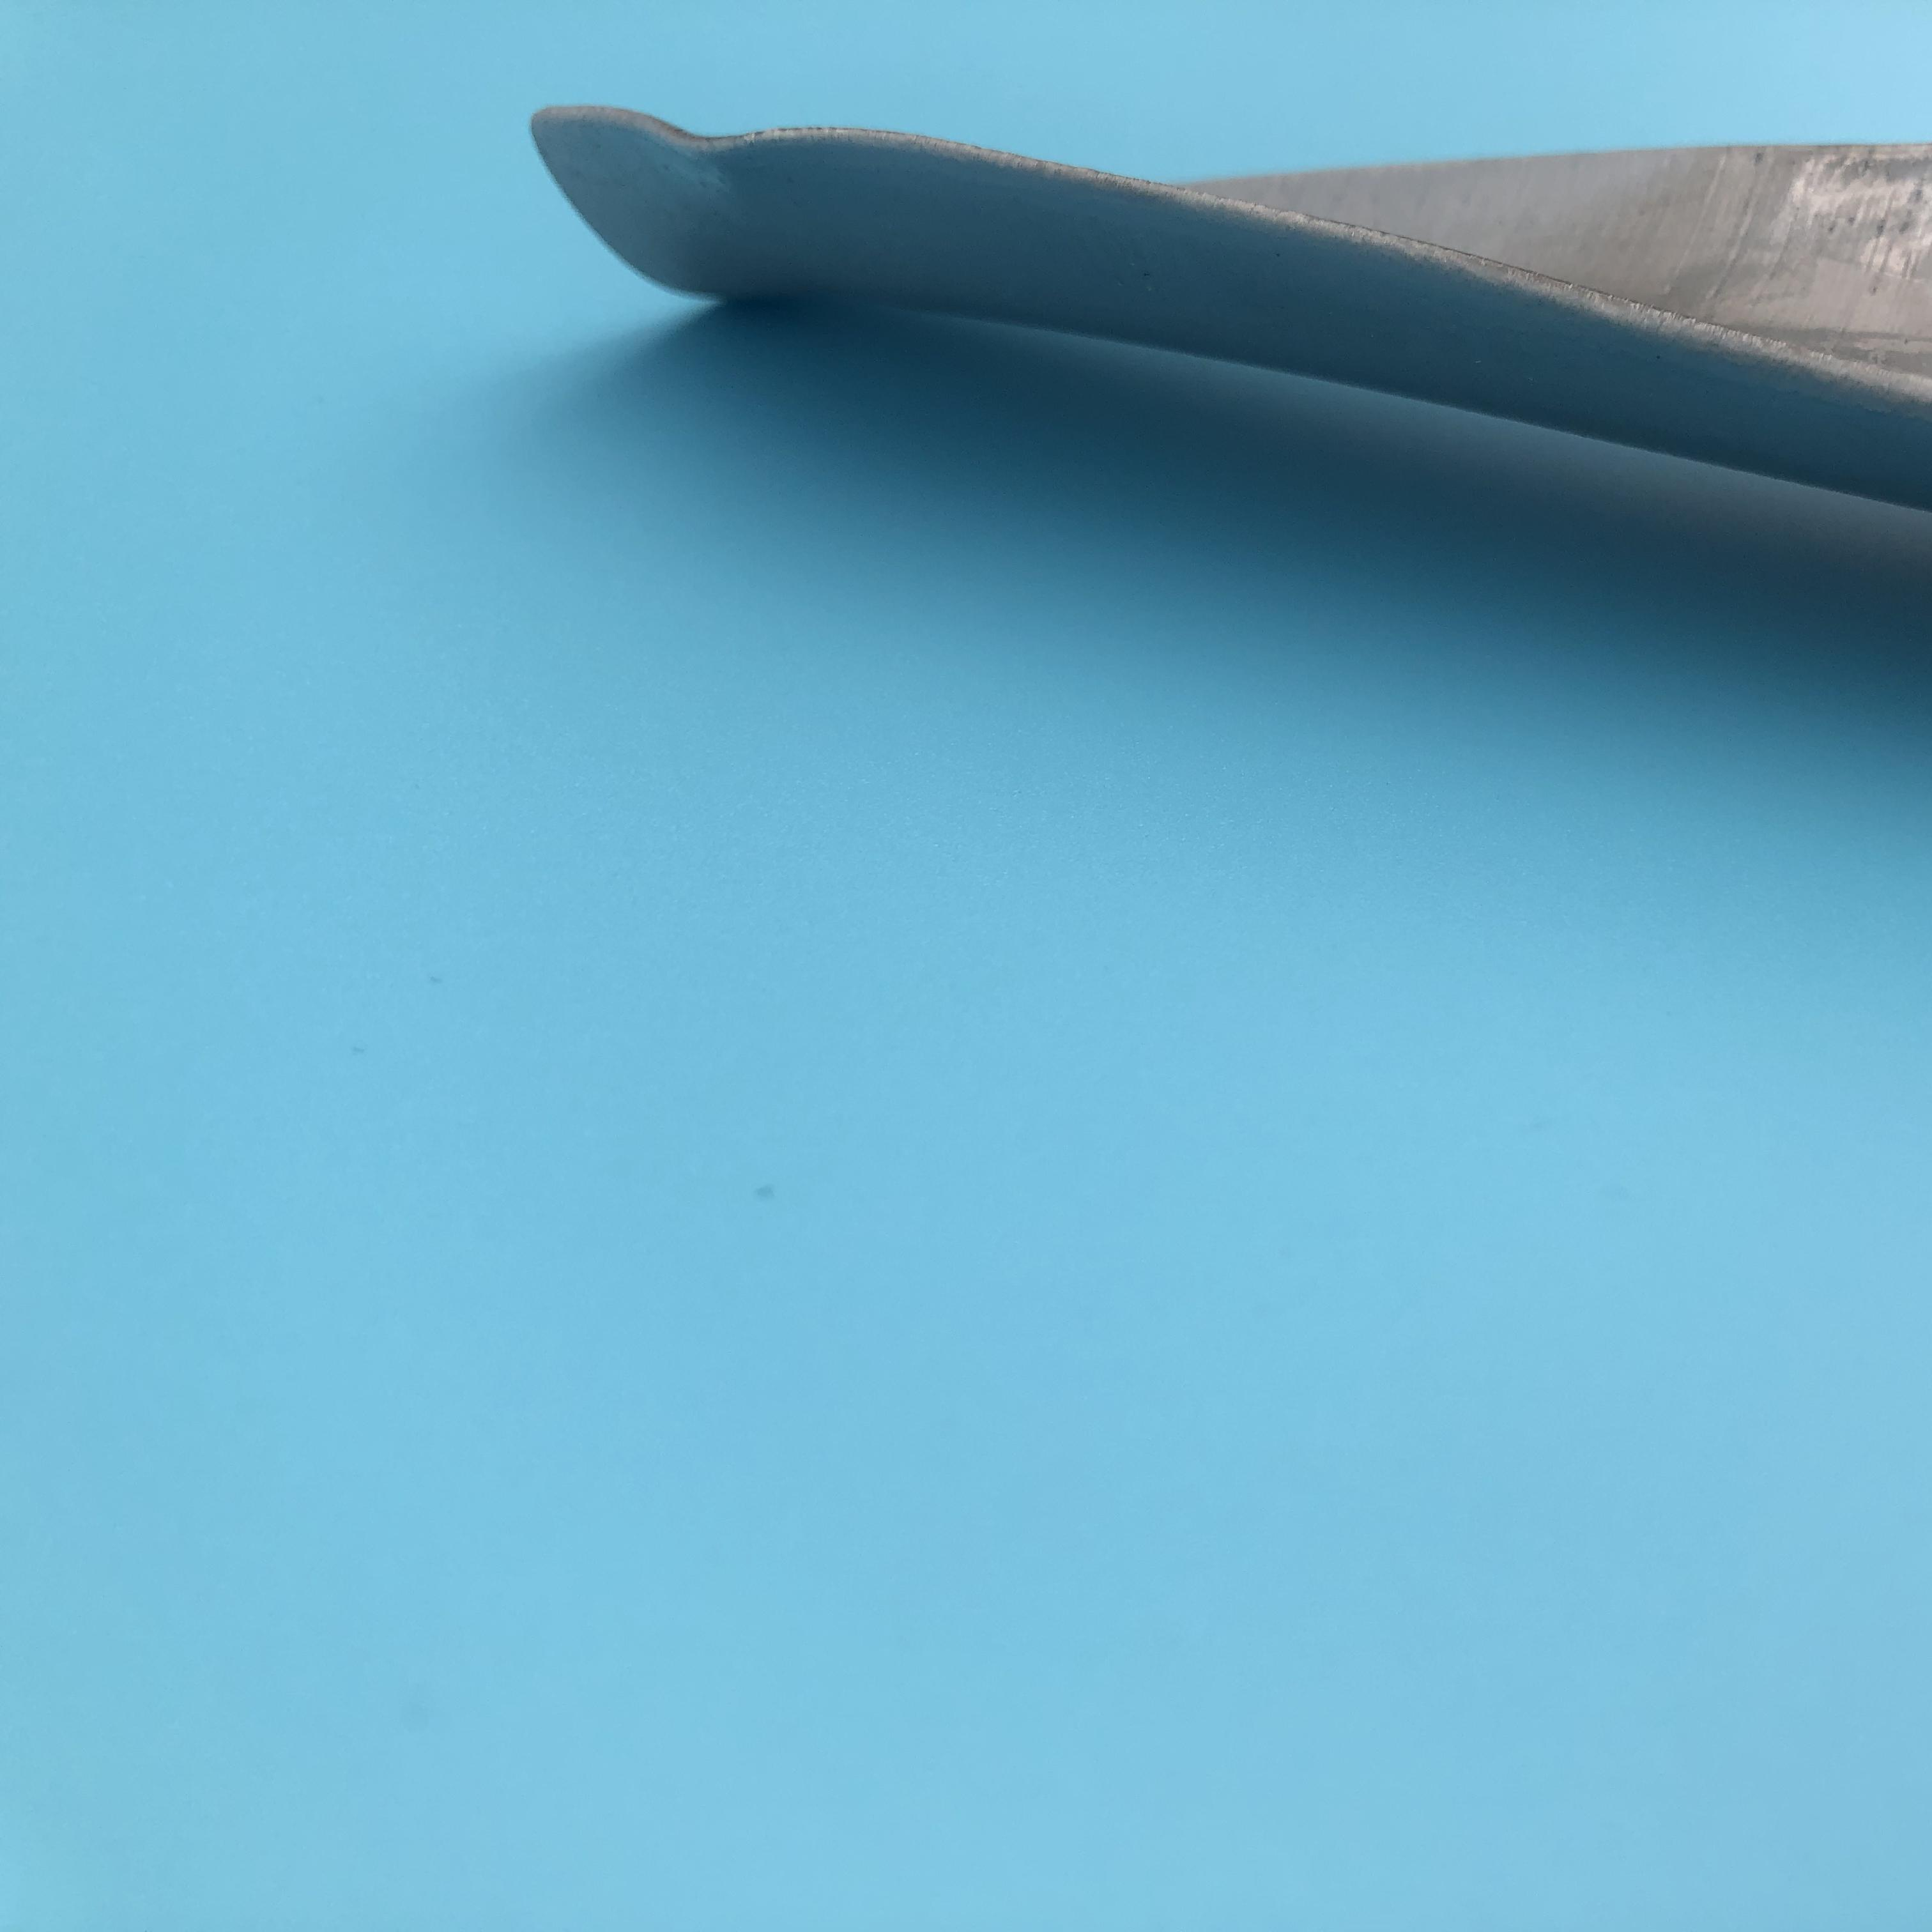ablation: (1675, 168, 1918, 287)
